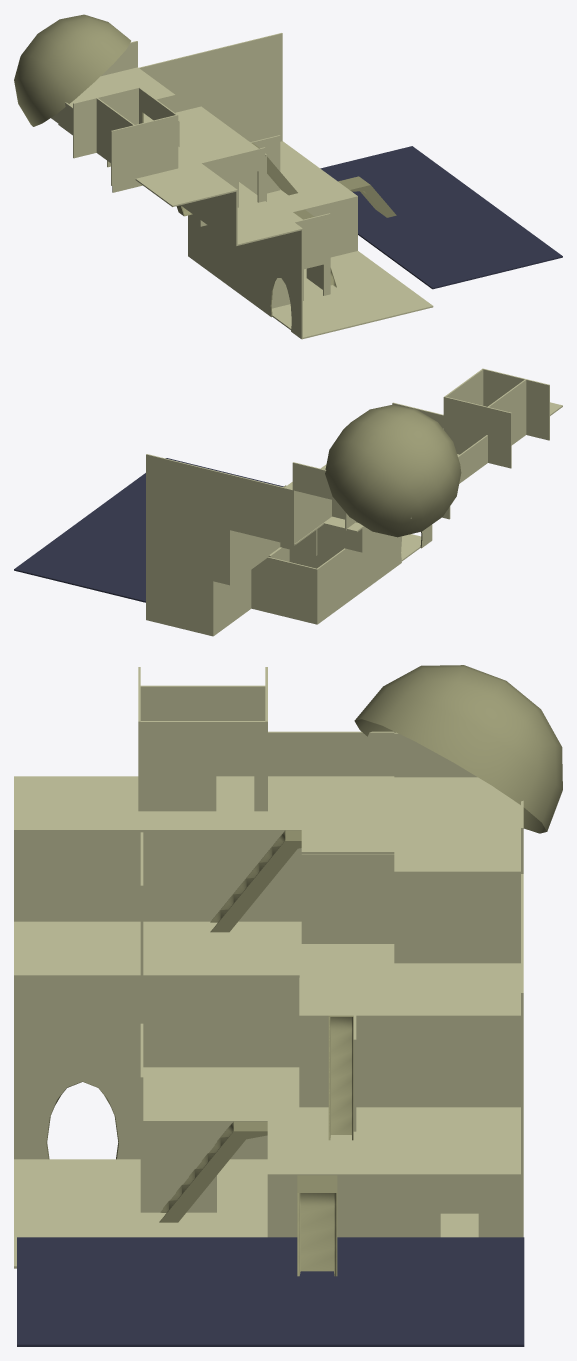
3 views of the same model, one above another, from view 1: azimuth 30°, elevation 25°; view 2: azimuth 150°, elevation 25°; view 3: azimuth 270°, elevation 25° (orthographic). The views are drawn at different scales.
Visible parts, largest first — view 1: pCube1 (×10), pCube2 (×9), pCube8, pCube3 (×4), room1_pCube3, pCube4, room1_pCube4, room1_pCube2, stair4, room1_pCube5, stair2; view 2: pCube2 (×10), pCube8, pCube3 (×8), pCube1 (×2), pCube4, room1_pCube5, room1_pCube3; view 3: pCube1 (×17), pCube3 (×13), room1_pCube3, pCube8, room1_pCube5, room24_pCube3, pCube5, stair4, stair2, stair1, stair3.
Boxes of the visible parts, left/top/right/bottom form: pCube1 (×10): left=93, top=67, right=562, bottom=338; pCube2 (×9): left=101, top=33, right=357, bottom=257; pCube8: left=14, top=14, right=130, bottom=126; pCube3 (×4): left=96, top=97, right=263, bottom=311; room1_pCube3: left=264, top=230, right=302, bottom=339; pCube4: left=73, top=87, right=139, bottom=158; room1_pCube4: left=198, top=147, right=265, bottom=216; room1_pCube2: left=271, top=241, right=330, bottom=308; stair4: left=338, top=176, right=396, bottom=217; room1_pCube5: left=139, top=87, right=178, bottom=167; stair2: left=251, top=142, right=297, bottom=195; pCube2 (×10): left=146, top=368, right=549, bottom=636; pCube8: left=325, top=404, right=461, bottom=537; pCube3 (×8): left=214, top=379, right=526, bottom=635; pCube1 (×2): left=14, top=458, right=421, bottom=602; pCube4: left=443, top=396, right=511, bottom=468; room1_pCube5: left=445, top=369, right=483, bottom=405; room1_pCube3: left=394, top=524, right=432, bottom=567; pCube1 (×17): left=14, top=776, right=524, bottom=1346; pCube3 (×13): left=14, top=685, right=520, bottom=1237; room1_pCube3: left=14, top=977, right=140, bottom=1159; pCube8: left=354, top=665, right=562, bottom=833; room1_pCube5: left=138, top=721, right=267, bottom=811; room24_pCube3: left=394, top=1176, right=520, bottom=1237; pCube5: left=394, top=777, right=520, bottom=829; stair4: left=297, top=1175, right=337, bottom=1276; stair2: left=328, top=1015, right=353, bottom=1140; stair1: left=159, top=1121, right=267, bottom=1222; stair3: left=210, top=830, right=301, bottom=932.
Size of the model in its own units: 6.37 by 3.73 by 4.33.
